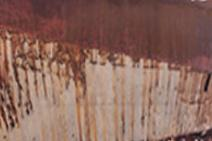rust: (1, 1, 212, 73)
